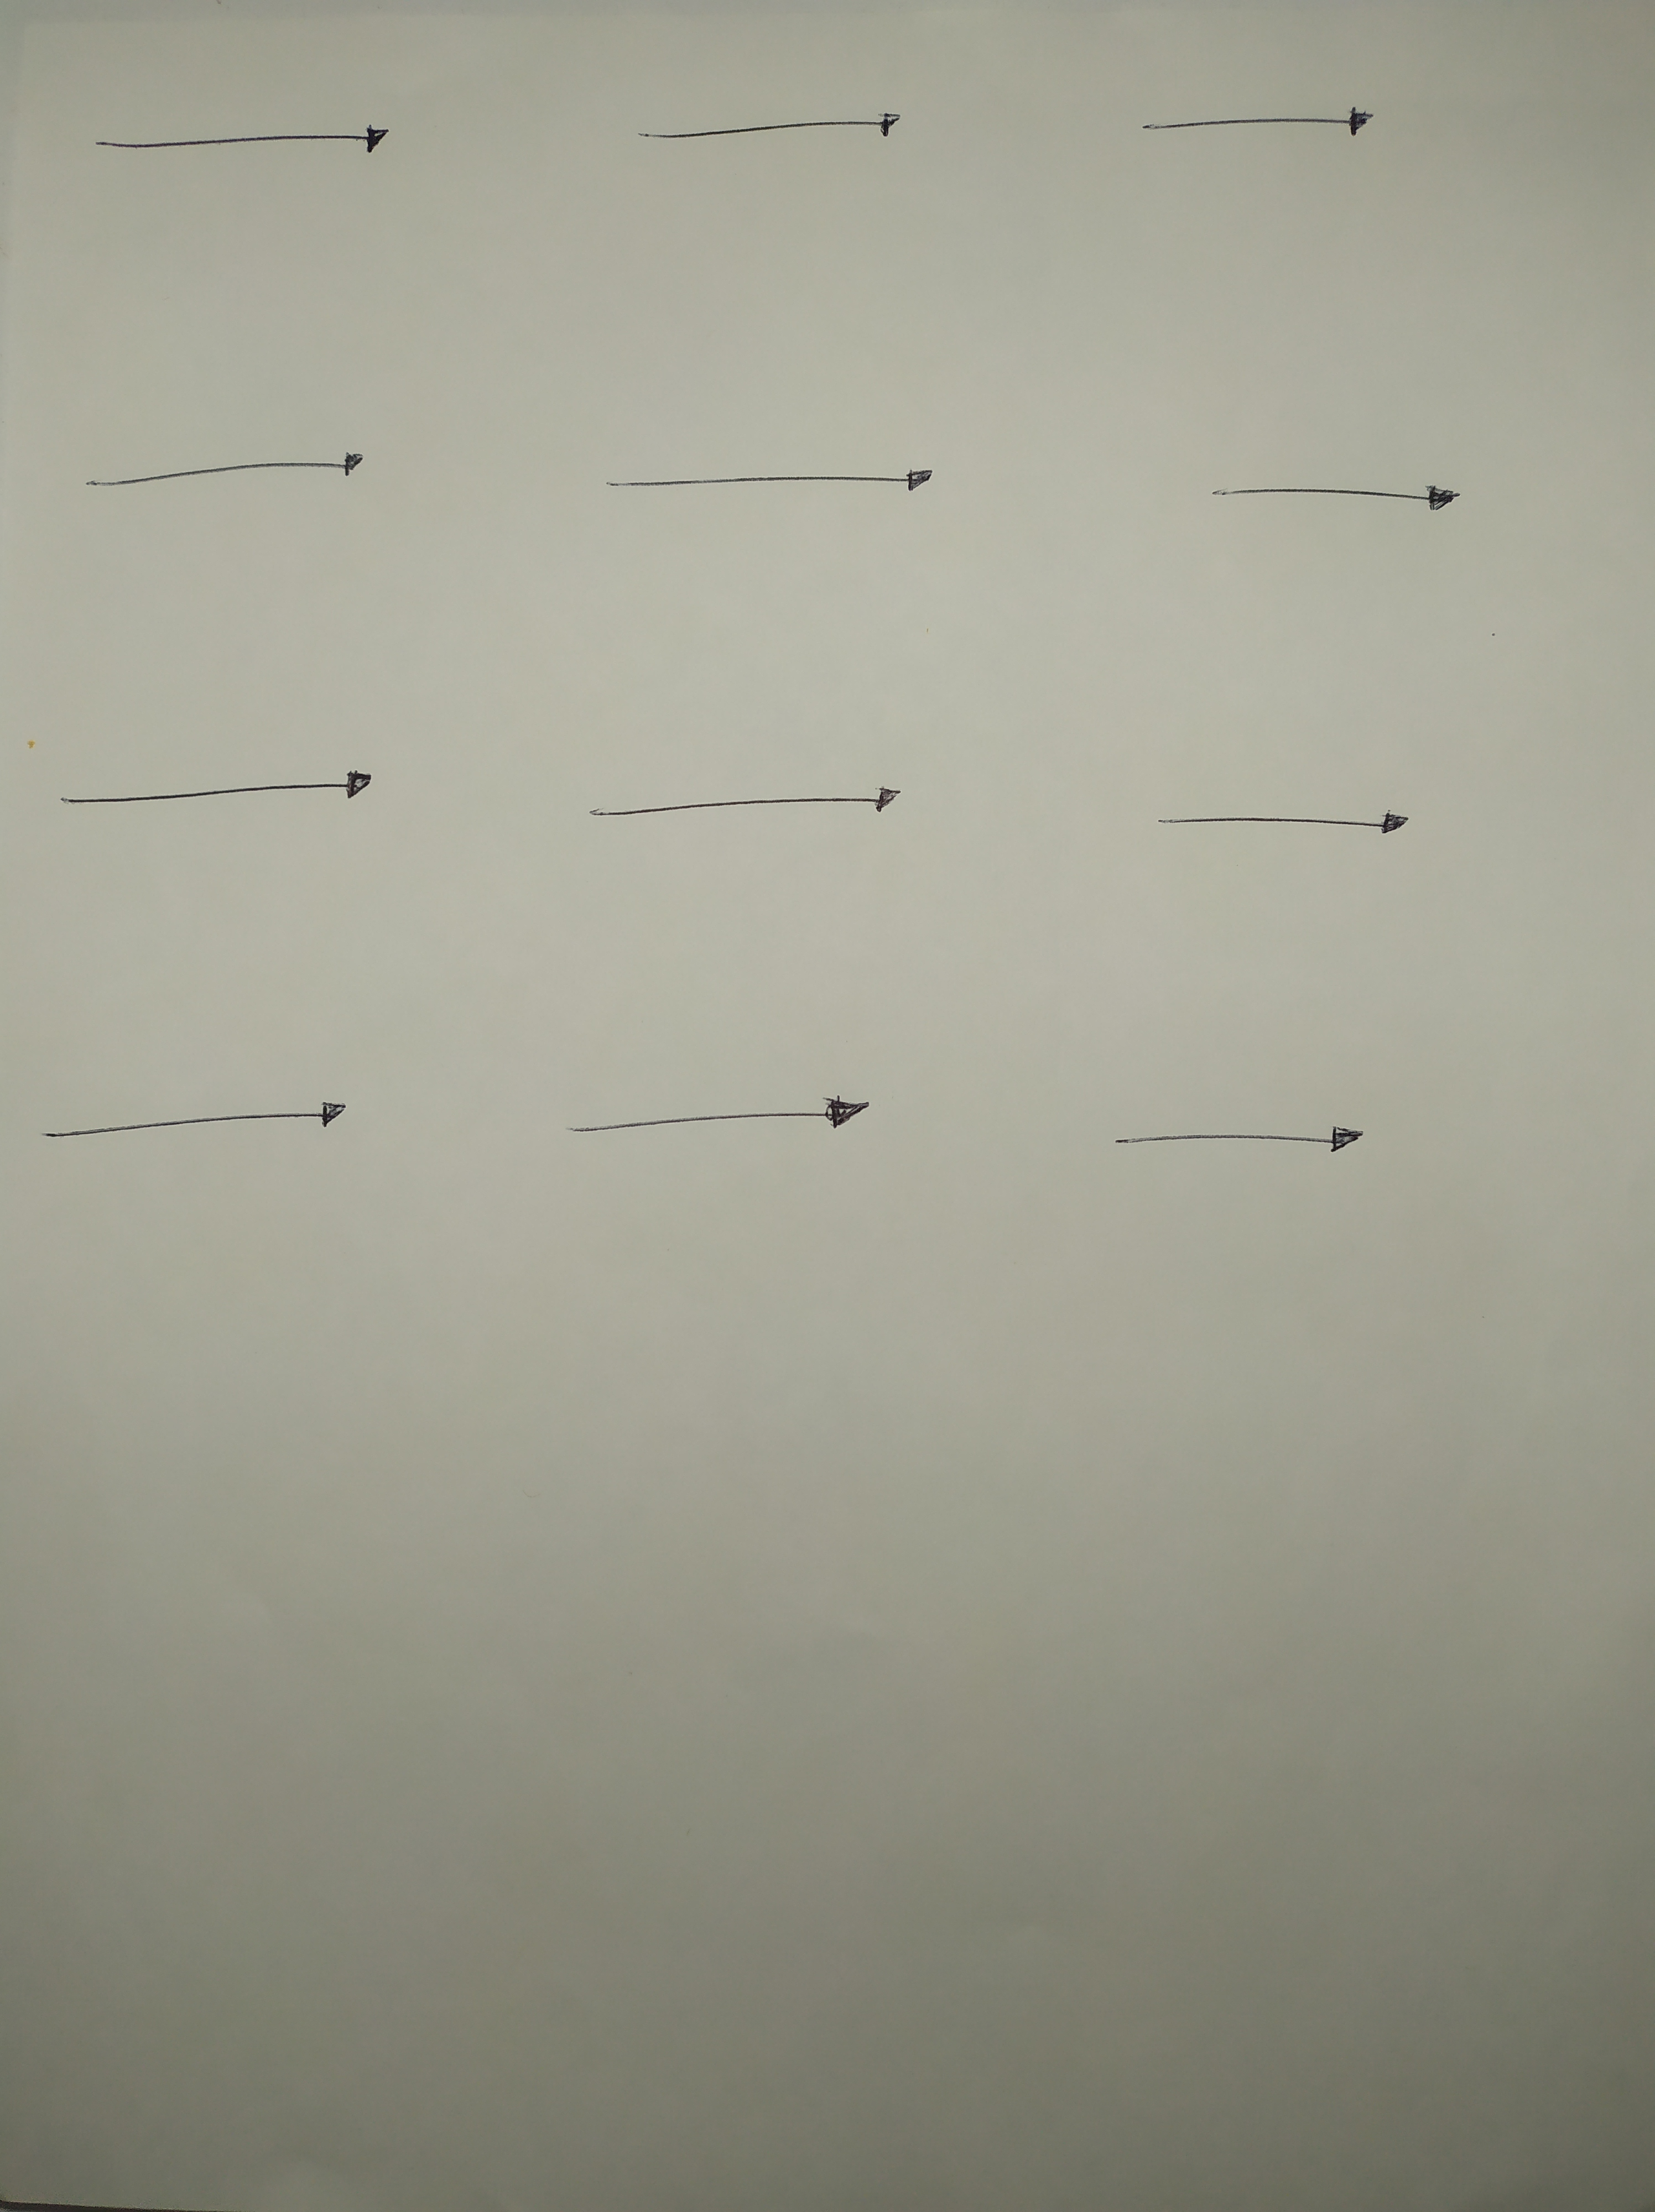arrow_line_right: (54, 405, 402, 525), (579, 56, 968, 158), (527, 1076, 894, 1178), (17, 1081, 442, 1169), (1073, 1070, 1382, 1189), (1147, 440, 1502, 542), (1123, 761, 1483, 862), (567, 758, 937, 855), (556, 431, 960, 516), (35, 90, 428, 176), (31, 749, 450, 822), (1088, 76, 1427, 165)
